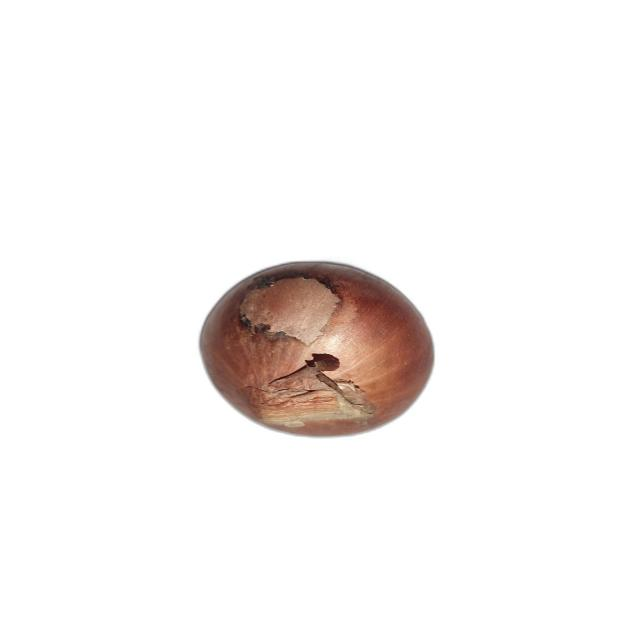onion: (197, 260, 437, 440)
